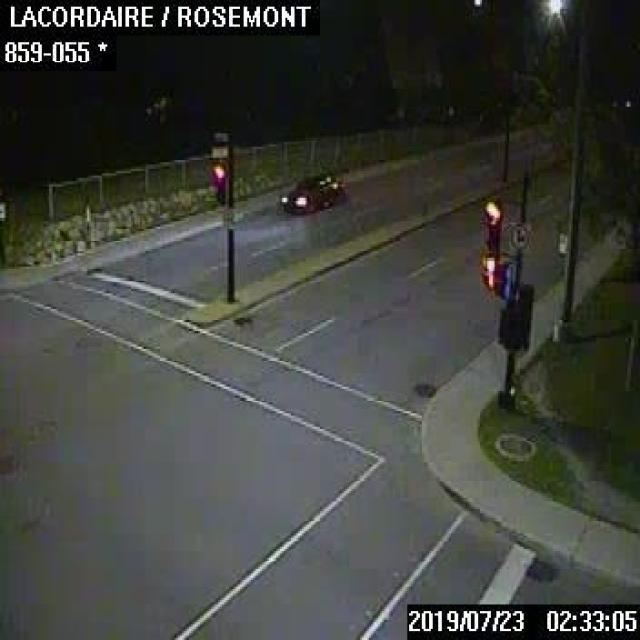vehicle: (279, 172, 344, 213)
